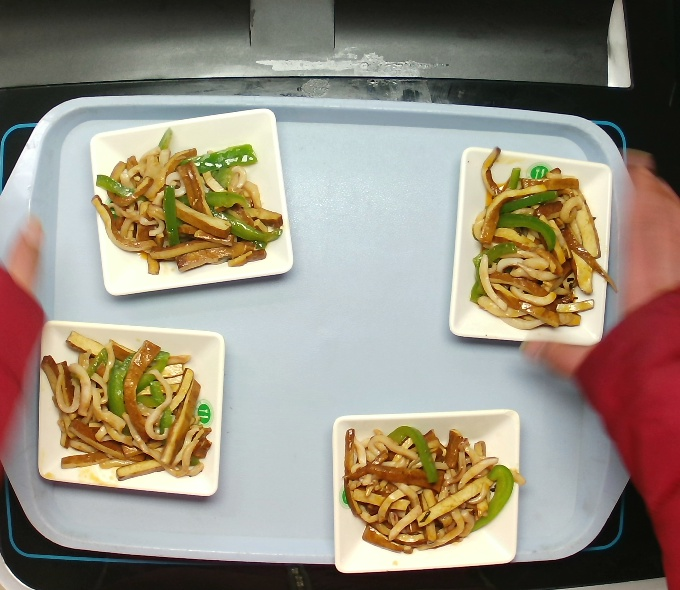wcq-XiangGanYouYu: (30, 321, 215, 491), (94, 121, 286, 281), (336, 419, 516, 556), (465, 158, 603, 326)
